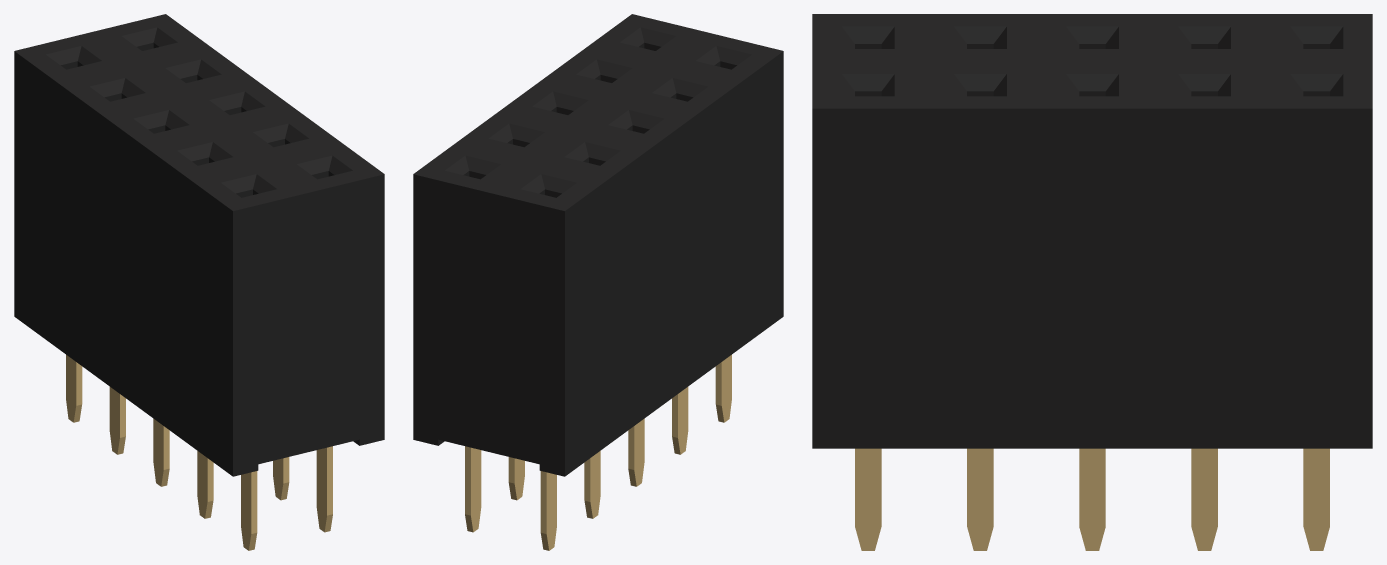
The model's file is PinSocket_2x05_P2.54mm_Vertical.glb.
3 renders of one model, left to right at view 1: azimuth 30°, elevation 25°; view 2: azimuth 150°, elevation 25°; view 3: azimuth 270°, elevation 25°, orthographic. The views are drawn at different scales.
Visible parts, largest first — view 1: =>[0:1:1:3]; view 2: =>[0:1:1:3]; view 3: =>[0:1:1:3].
Boxes of the visible parts, bbox=[...] form: =>[0:1:1:3]: bbox=[14, 14, 384, 550]; =>[0:1:1:3]: bbox=[413, 14, 783, 550]; =>[0:1:1:3]: bbox=[812, 14, 1372, 550].
Bounding box in the file's own units: 0.00508 × 0.0116 × 0.0127.
